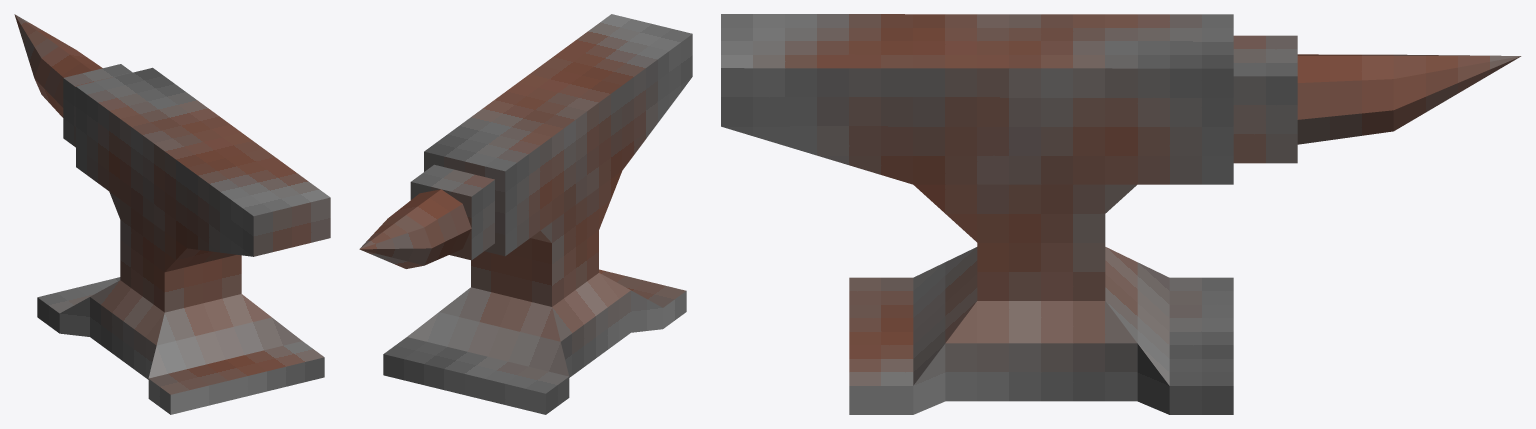
Rendered from anvil_murky.obj.
3 renders of one model, left to right at view 1: azimuth 30°, elevation 25°; view 2: azimuth 150°, elevation 25°; view 3: azimuth 270°, elevation 25°, orthographic. The views are drawn at different scales.
Visible parts, largest first — view 1: Left, Top, Back; view 2: Left, Top, Front; view 3: Right, Top, Front, Back.
Boxes of the visible parts, x1,y1,x2,y2 form: Left: (15,15,253,414); Top: (14,14,330,394); Back: (148,197,330,414); Left: (360,34,692,414); Top: (360,14,692,393); Front: (383,151,569,414); Right: (721,56,1520,414); Top: (721,14,1520,385); Front: (1105,247,1169,385); Back: (913,247,977,385).
Bounding box in the file's own units: 0.5 × 0.6885 × 1.56.
